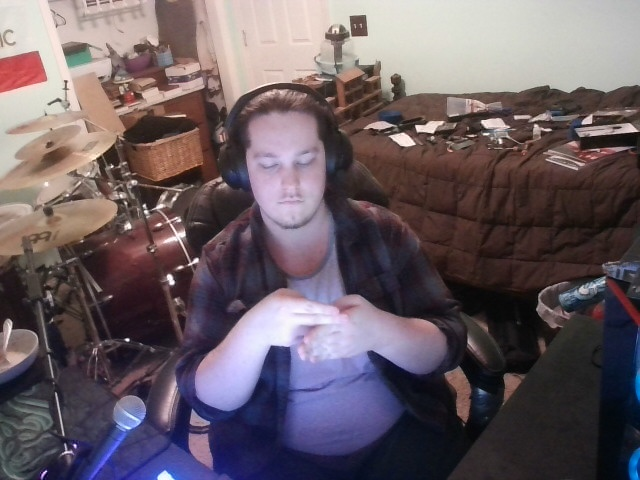name: (240, 275, 387, 394)
